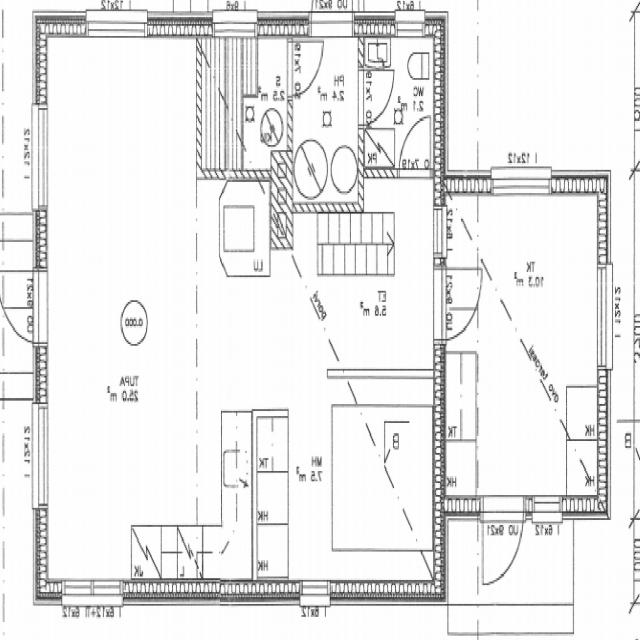door: (433, 268, 488, 339), (0, 268, 48, 349), (291, 370, 329, 444), (286, 40, 326, 99), (400, 114, 431, 178), (358, 70, 394, 124), (311, 0, 354, 38)
